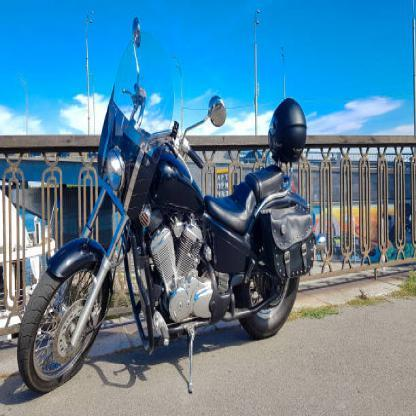Motorcycle: (11, 33, 315, 404)
